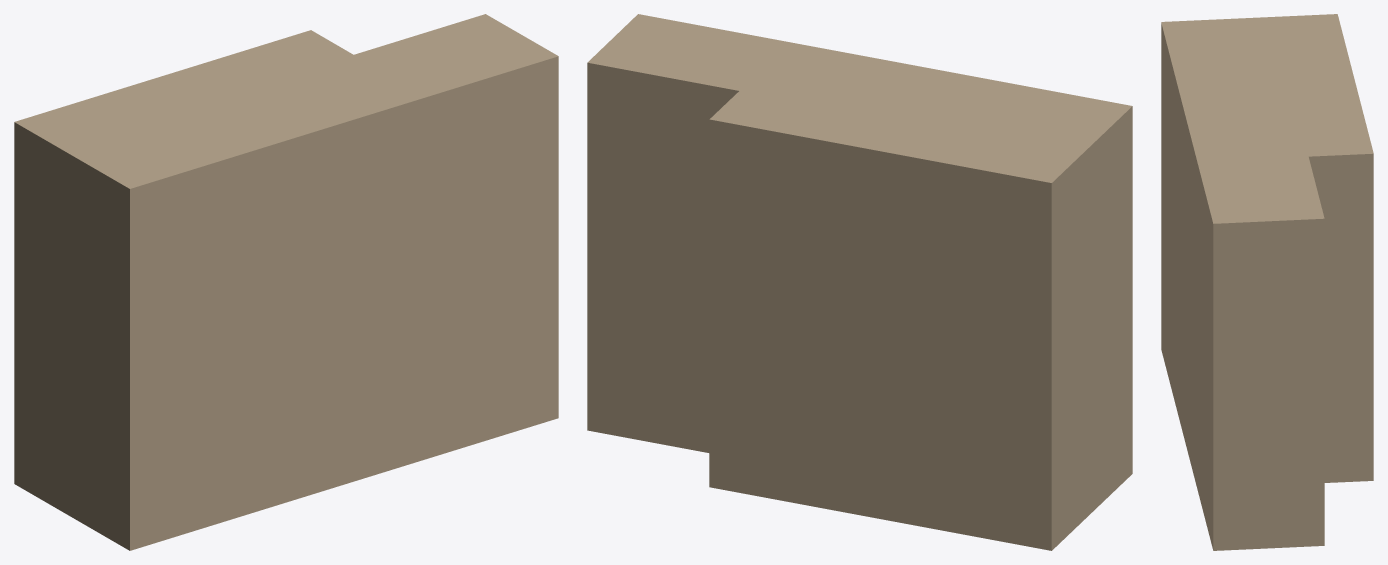
Rendered from bld_101572371.dae.
The picture shows the model from 3 angles, left to right: view 1: azimuth 30°, elevation 25°; view 2: azimuth 150°, elevation 25°; view 3: azimuth 270°, elevation 25°; orthographic projection. The views are drawn at different scales.
Parts seen in each view (by area): view 1: bld_101572371; view 2: bld_101572371; view 3: bld_101572371.
Boxes of the visible parts, x1,y1,x2,y2 form: bld_101572371: (14, 14, 558, 550); bld_101572371: (587, 14, 1132, 550); bld_101572371: (1161, 14, 1373, 550).
Size of the model in its own units: 11.01 by 4.71 by 8.
